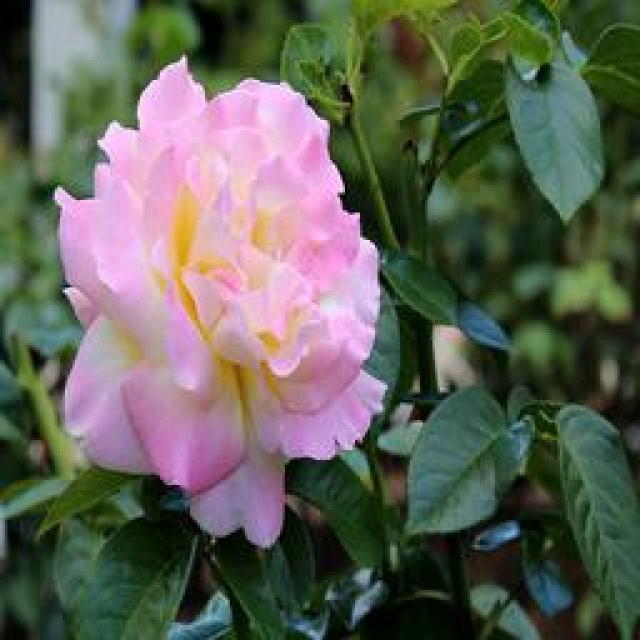rose: (29, 56, 402, 544)
